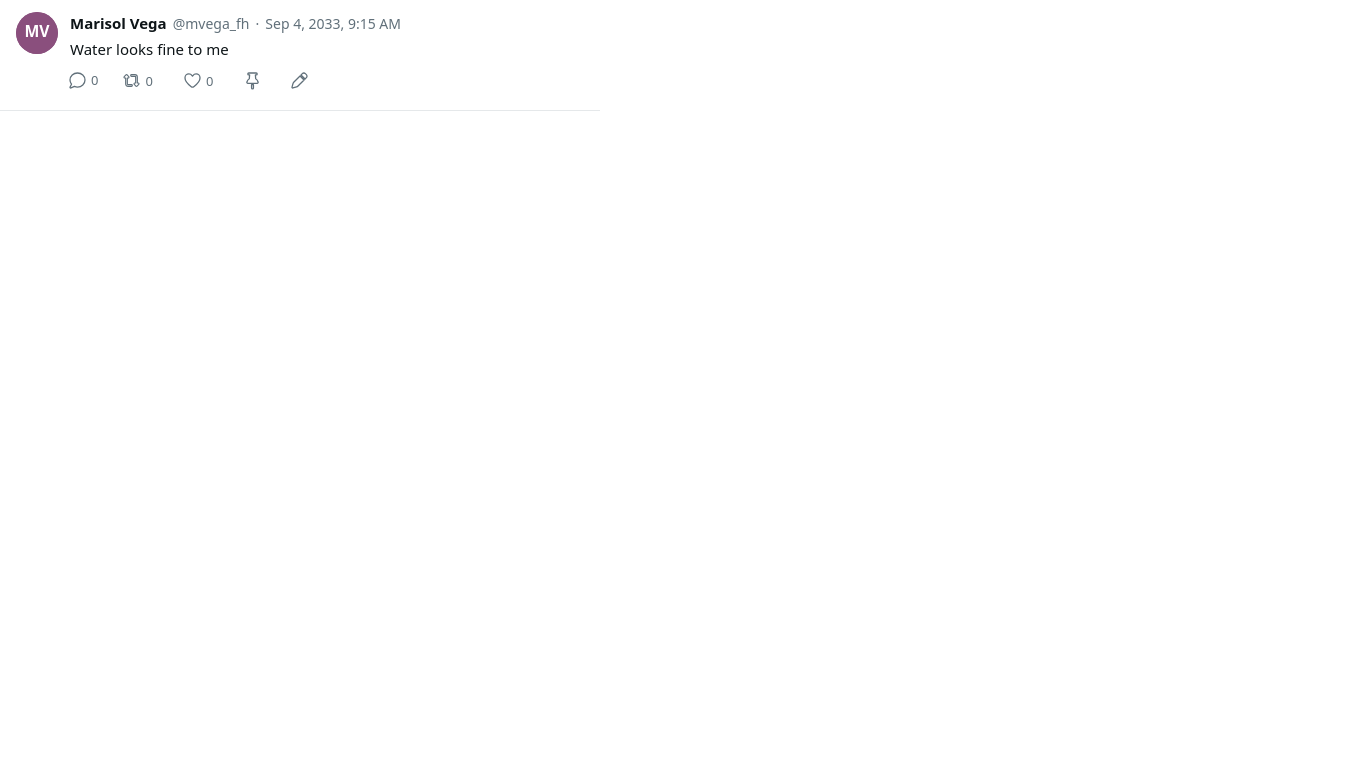
Scenario: Save (DF-29) › rolls the card back and keeps the dialog open with a message on a generic failure
Click the button named "Edit post" at [300, 80], box [286,69,313,92]
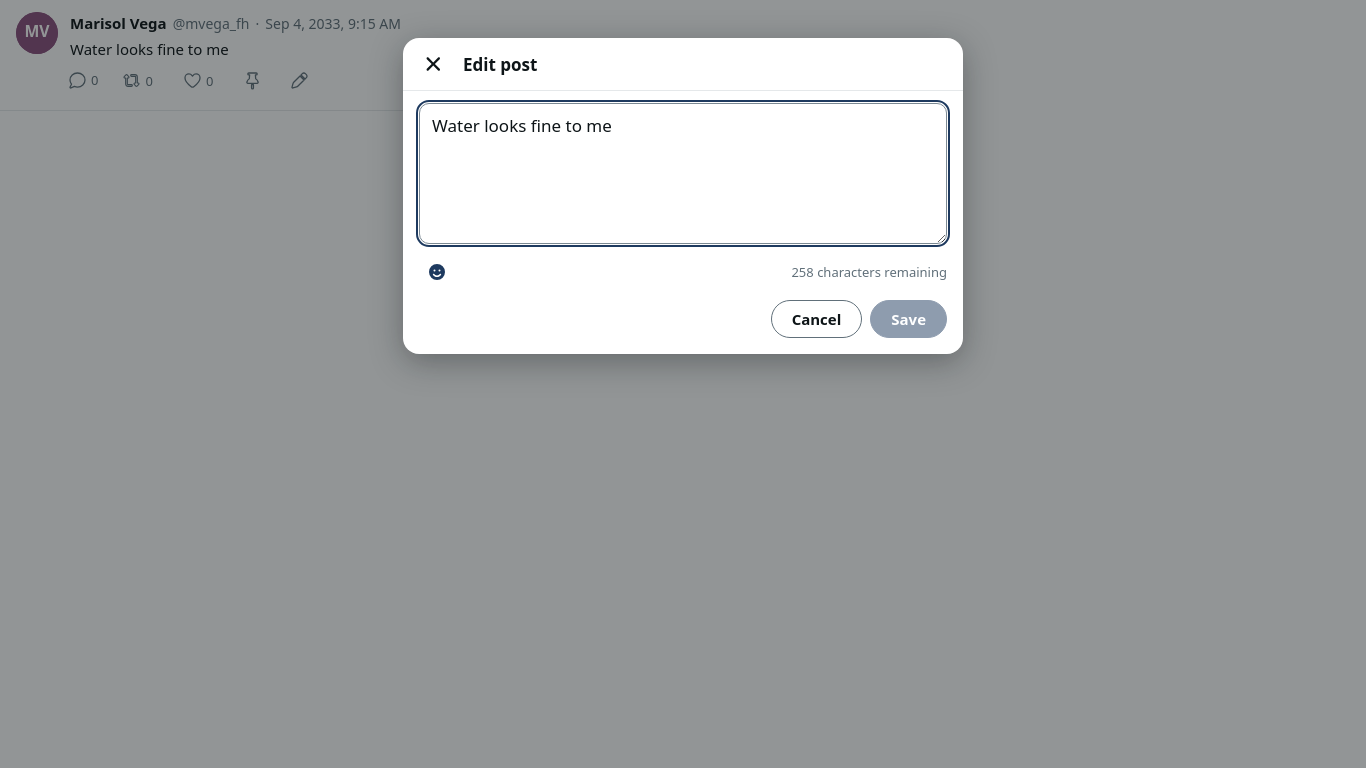
Replace the text in the text box named "Post text" with "Will fail" at [683, 174], box [419,103,947,244]
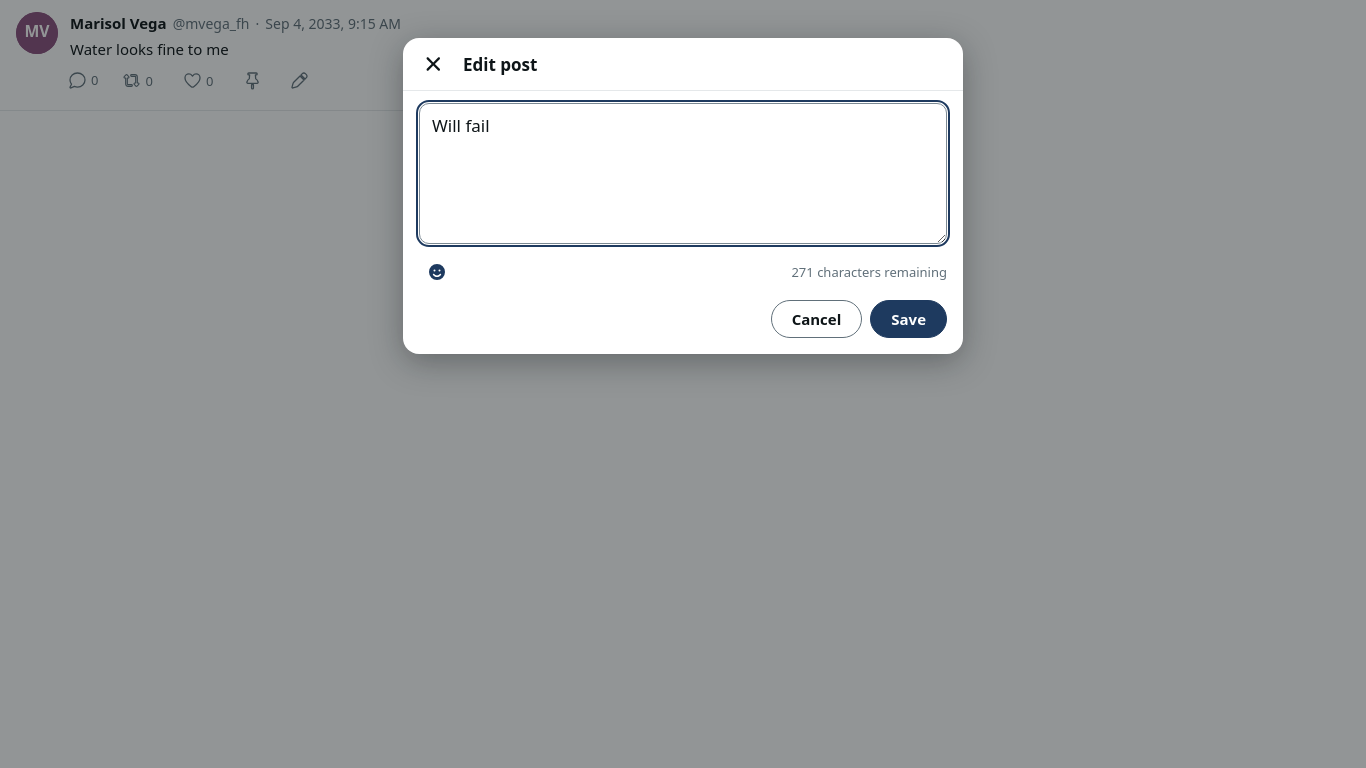
Click the button "Save" at [909, 319], box [870,300,947,338]
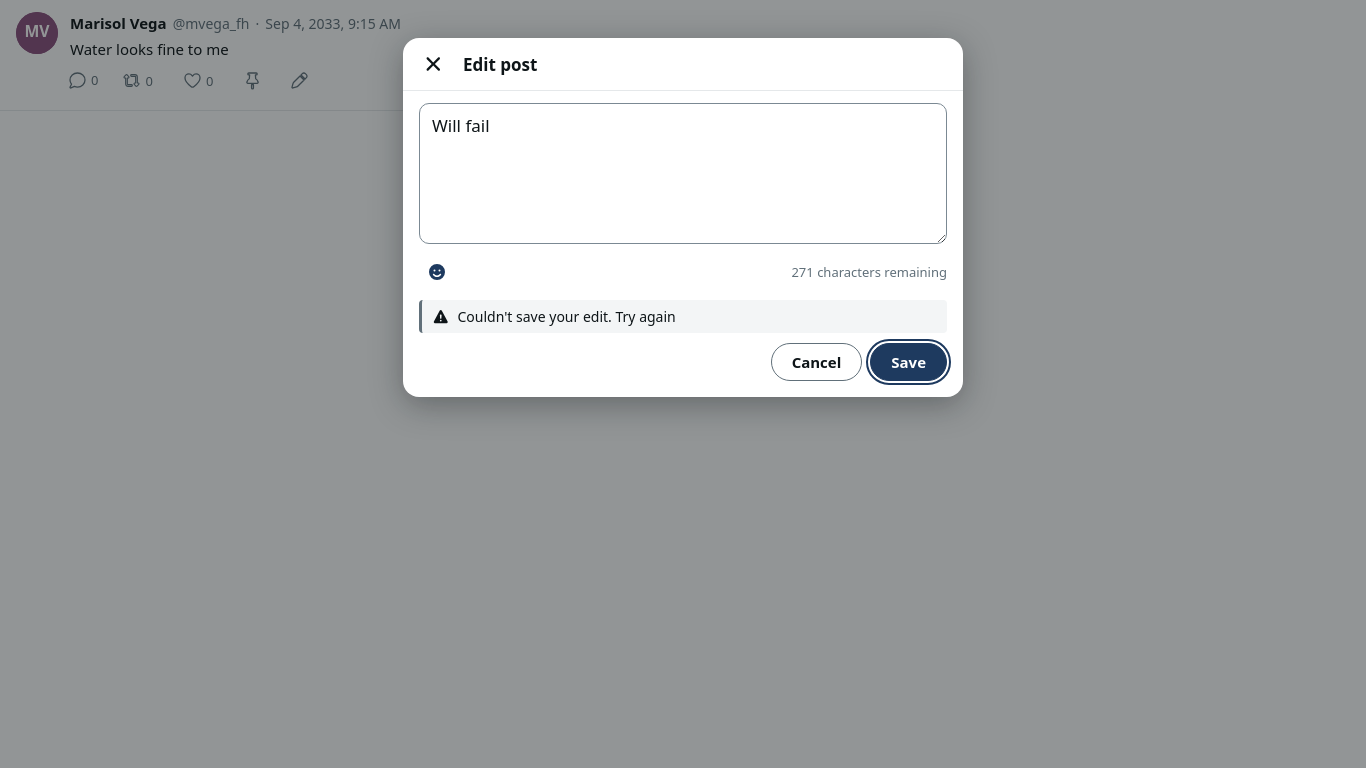
Expected: the text "Water looks fine to me" is shown, [70,38,229,58]
Now the dialog is shown, box [403,38,963,397]
Now the message with test id "edit-post-error" reads "Couldn't save your edit. Try again", box [458,307,676,326]
